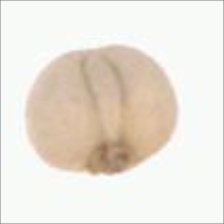L5: (78, 48, 129, 144), (81, 138, 142, 173), (62, 43, 130, 59)
L6: (21, 40, 183, 178)
